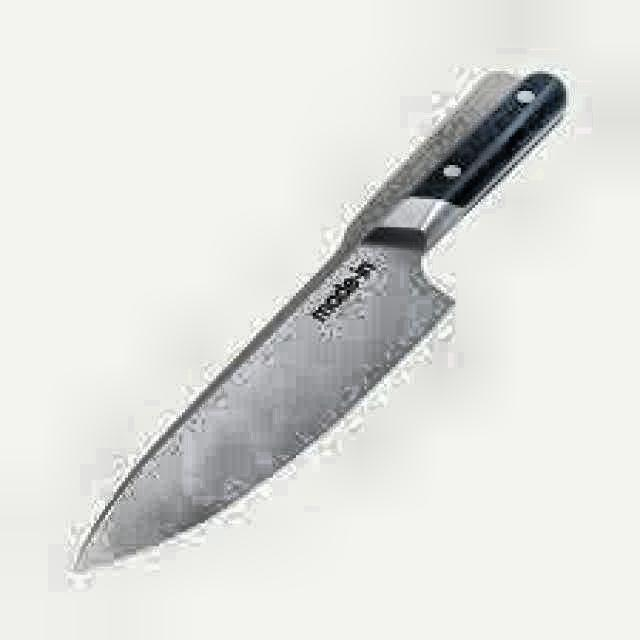knife: (69, 65, 574, 577)
